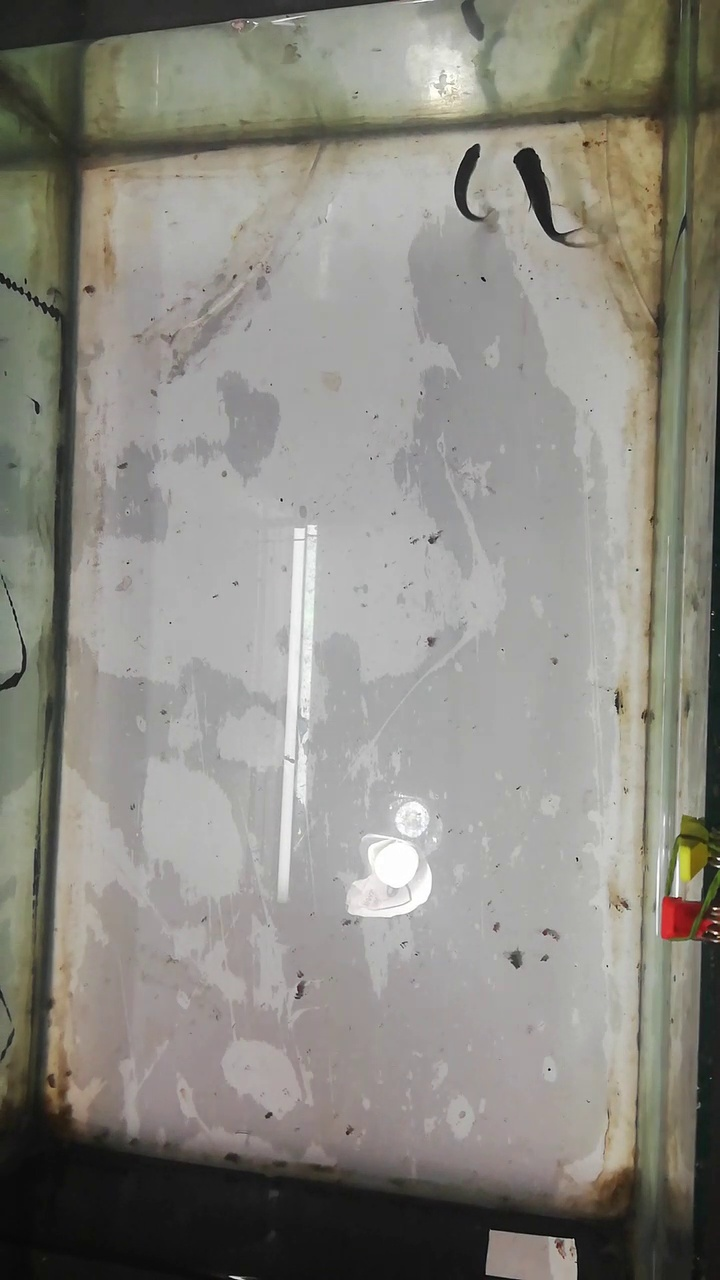fish1: (514, 146, 575, 246)
fish2: (456, 142, 487, 222)
